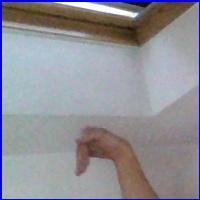del: (65, 116, 137, 182)
